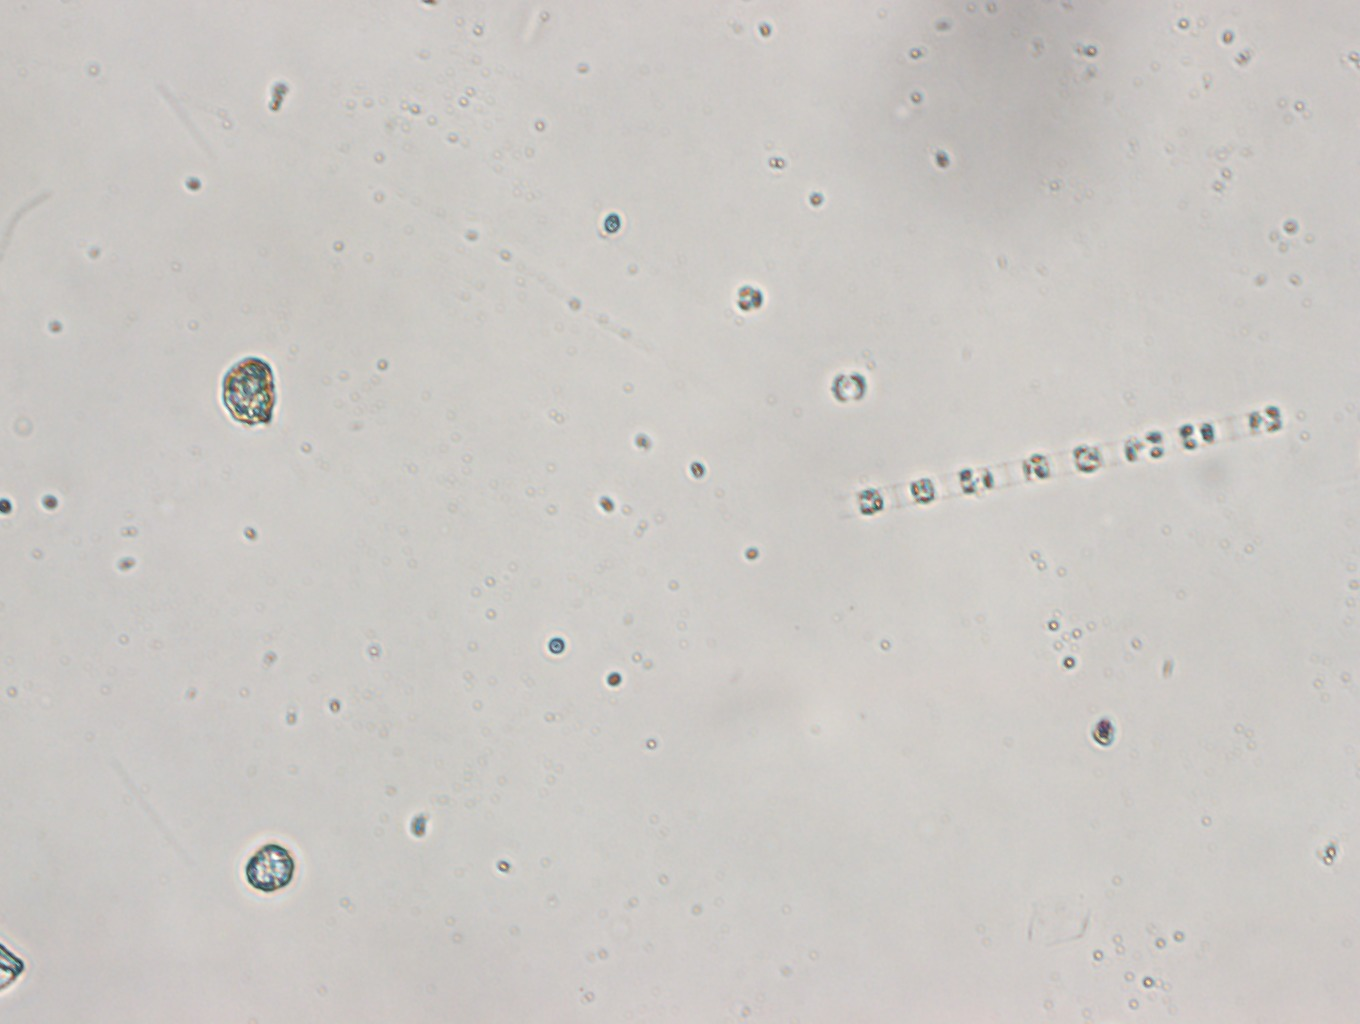skeletonema: (834, 389, 1301, 528)
